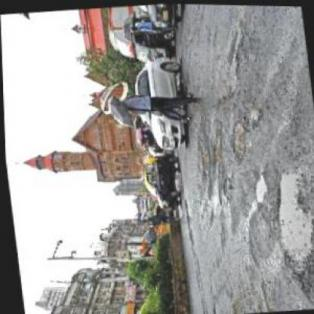Hueco: (267, 163, 313, 270), (225, 119, 248, 157), (247, 171, 267, 203), (217, 174, 230, 199)
